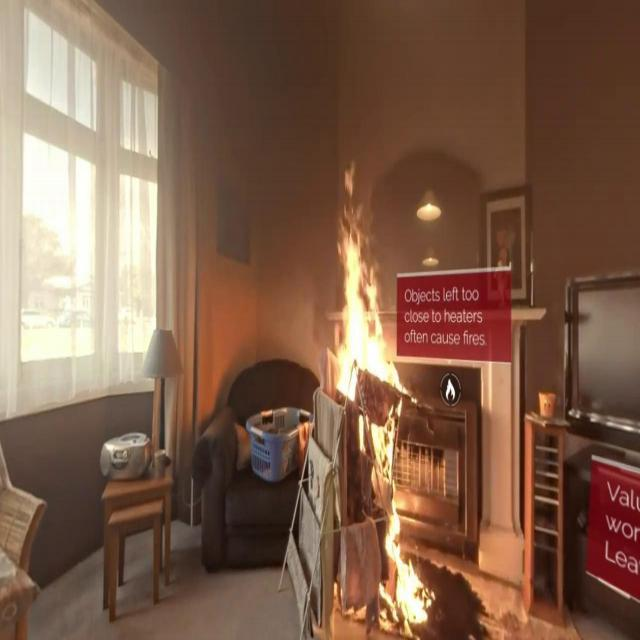fire: (327, 167, 418, 402), (376, 490, 441, 640)
